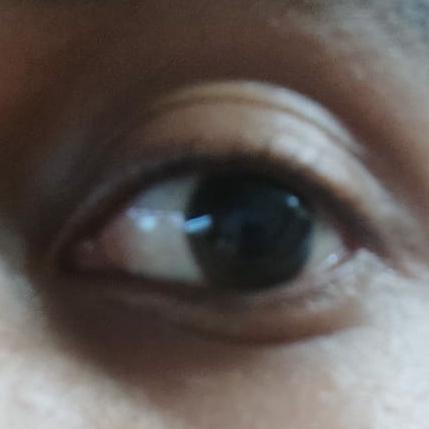open: (67, 88, 429, 354)
